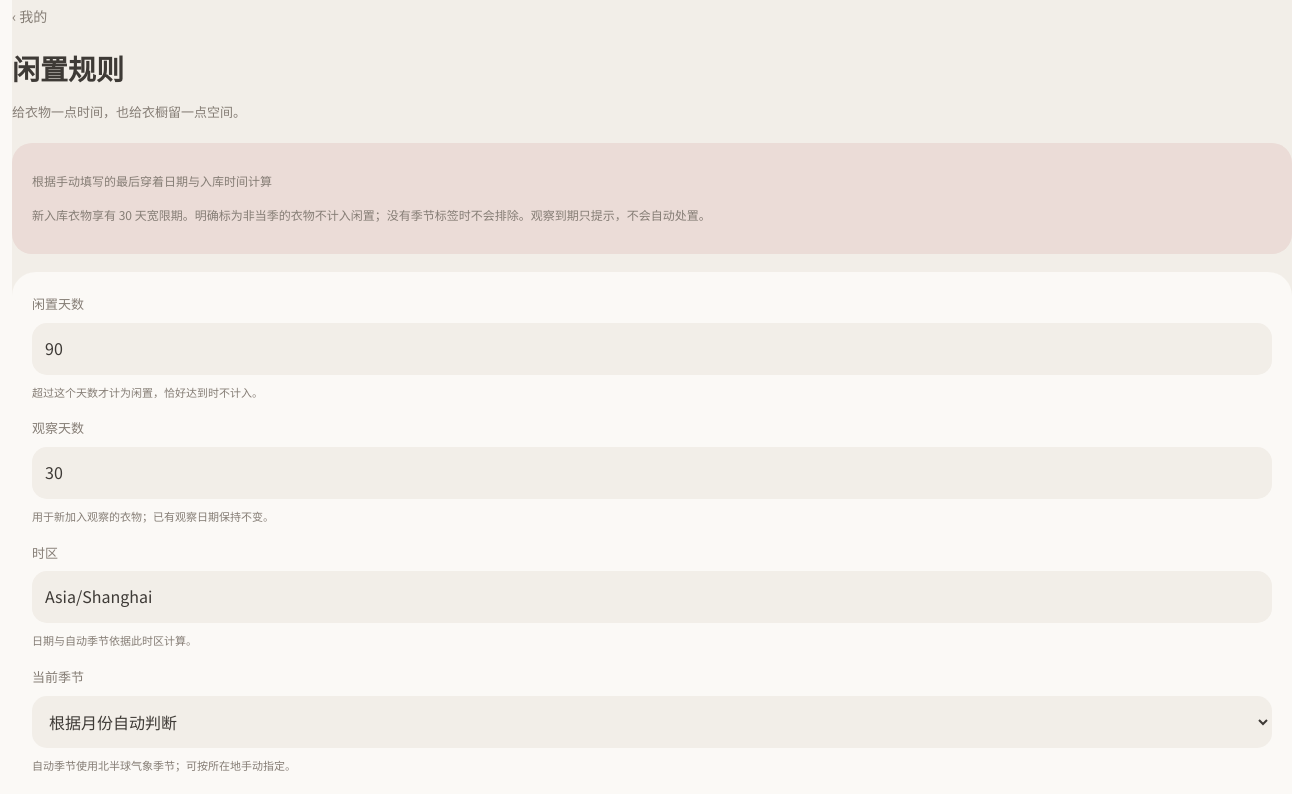
Test: background refresh preserves unsaved and failed settings input
The width and height of the screenshot is (1292, 794).
Replace the text in the number field labelled "闲置天数" with "120" at (652, 349), box [32, 323, 1272, 375]
(page scrolled)
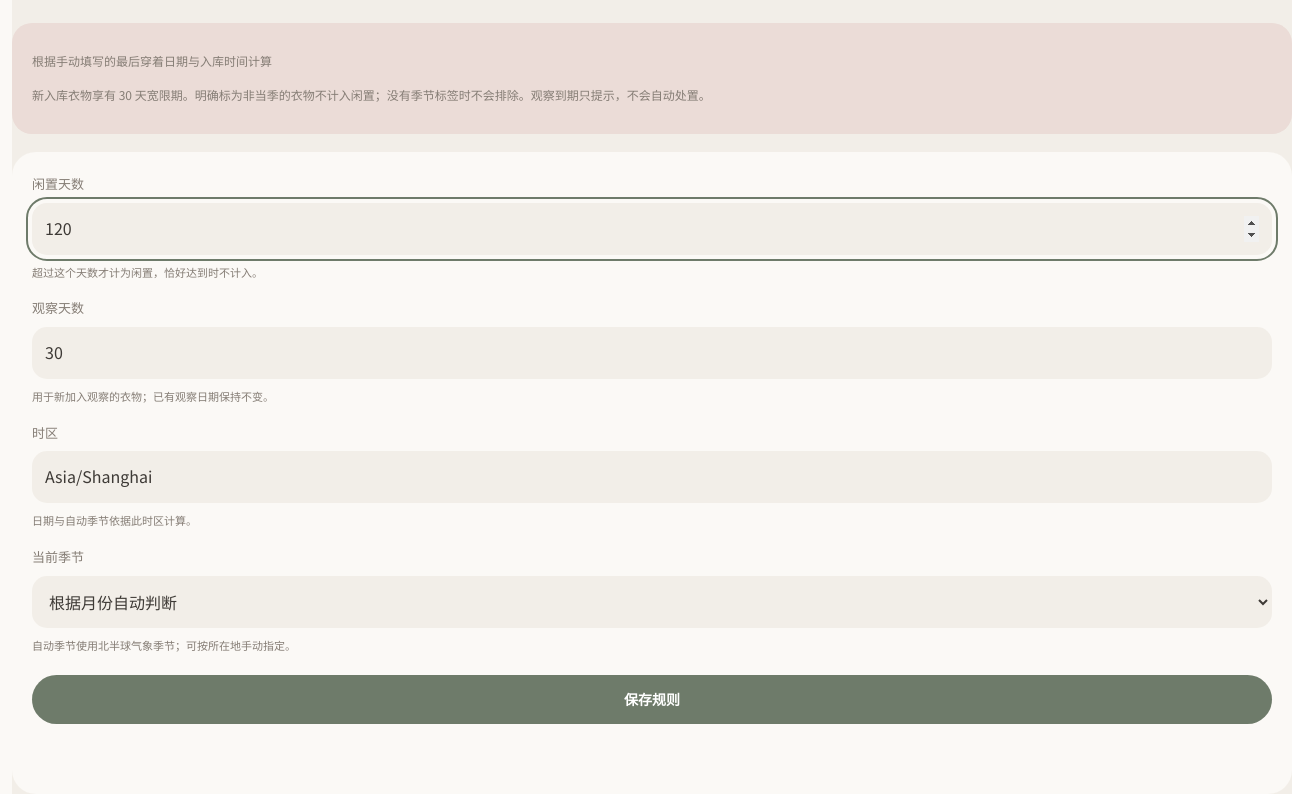
Click the button "保存规则" at (652, 700), box [32, 675, 1272, 724]
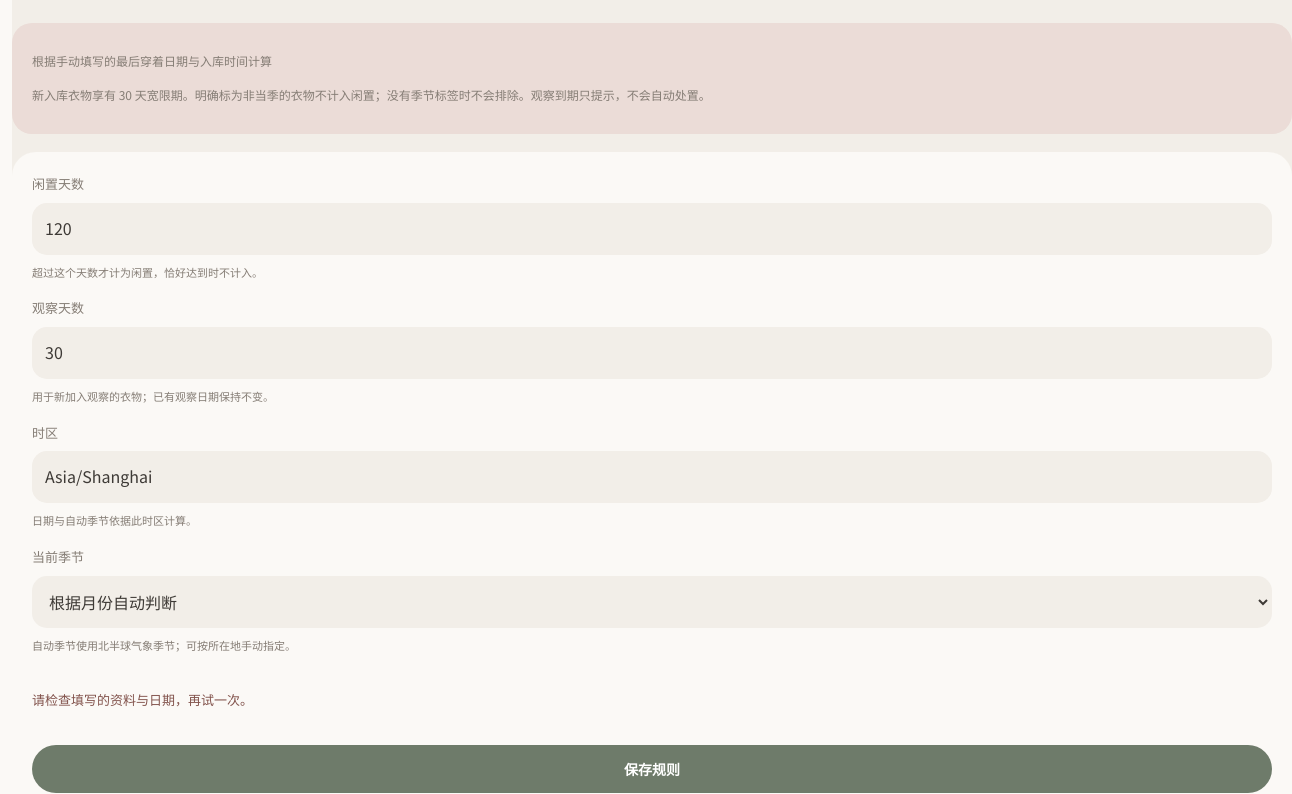
Result: the message "请检查填写的资料与日期，再试一次。" is shown at [32, 690, 253, 709]
